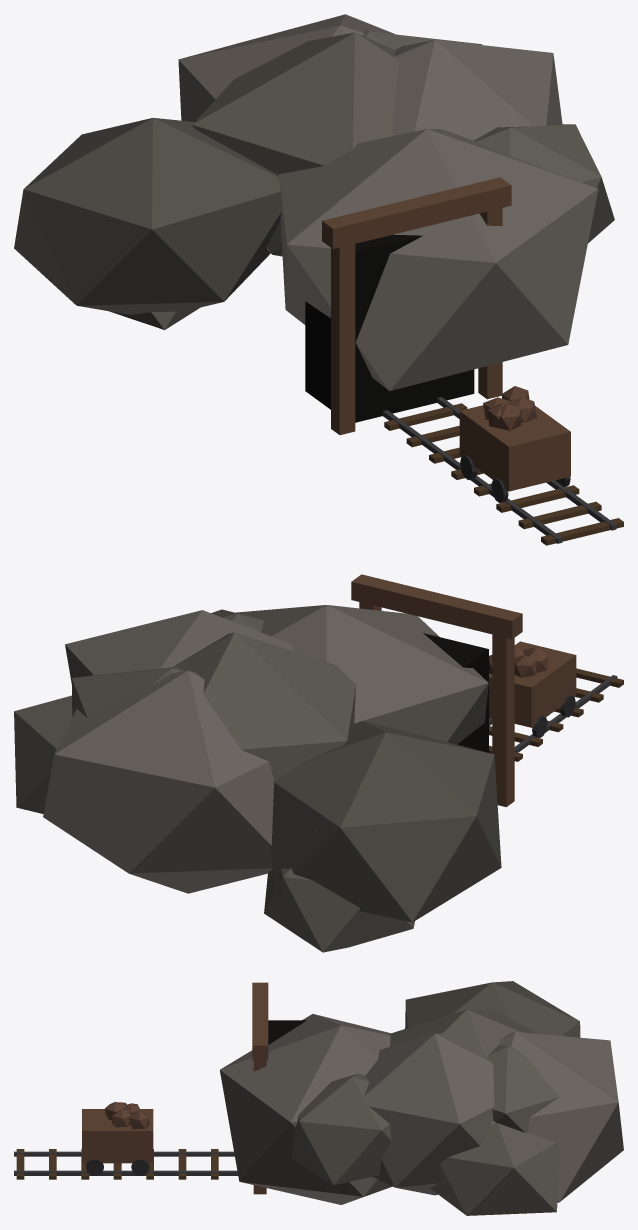
Rendered from mine_1.glb.
3 views of the same model, one above another, from view 1: azimuth 30°, elevation 25°; view 2: azimuth 150°, elevation 25°; view 3: azimuth 270°, elevation 25° (orthographic). The views are drawn at different scales.
Visible parts, largest first — view 1: mine1_stone, mine1_wood, mine1_soot, mine1_iron; view 2: mine1_stone, mine1_wood, mine1_soot, mine1_iron; view 3: mine1_stone, mine1_wood, mine1_iron, mine1_soot.
Boxes of the visible parts, bbox=[...] form: mine1_stone: bbox=[14, 14, 614, 430]; mine1_wood: bbox=[322, 177, 623, 545]; mine1_soot: bbox=[305, 234, 474, 422]; mine1_iron: bbox=[382, 397, 616, 543]; mine1_stone: bbox=[14, 605, 548, 952]; mine1_wood: bbox=[351, 574, 623, 807]; mine1_soot: bbox=[423, 633, 488, 752]; mine1_iron: bbox=[489, 675, 617, 752]; mine1_stone: bbox=[104, 981, 623, 1215]; mine1_wood: bbox=[16, 982, 268, 1194]; mine1_iron: bbox=[14, 1151, 238, 1175]; mine1_soot: bbox=[268, 1020, 306, 1044].
Bounding box in the file's own units: 6.6 × 3.45 × 9.41.
